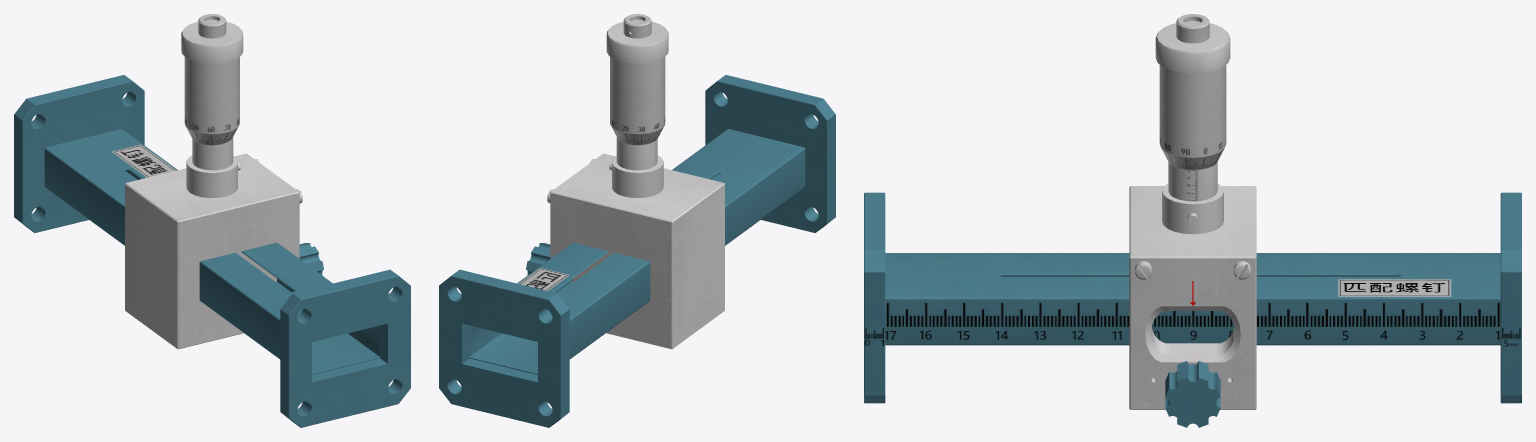
The model's file is pi_pei_luo_ding_2022.03.03.FBX.
3 views of the same model, side by side, from view 1: azimuth 30°, elevation 25°; view 2: azimuth 150°, elevation 25°; view 3: azimuth 270°, elevation 25° (orthographic). The views are drawn at different scales.
Parts seen in each view (by area): view 1: c1, 对象003, 对象002, 对象001, 对象006, 对象005, 对象004; view 2: c1, 对象003, 对象001, 对象002, 对象006, 对象005, 对象004; view 3: 对象003, c1, 对象006, 对象001, 对象002, 对象004, 对象005.
Part boxes in pixels (left/top/right/bottom): c1: left=125, top=153, right=302, bottom=349; 对象003: left=44, top=129, right=380, bottom=374; 对象002: left=280, top=269, right=410, bottom=427; 对象001: left=14, top=75, right=144, bottom=232; 对象006: left=181, top=14, right=243, bottom=145; 对象005: left=192, top=137, right=233, bottom=170; 对象004: left=299, top=243, right=323, bottom=275; c1: left=547, top=153, right=724, bottom=349; 对象003: left=469, top=129, right=805, bottom=374; 对象001: left=439, top=269, right=569, bottom=427; 对象002: left=705, top=75, right=835, bottom=232; 对象006: left=606, top=14, right=668, bottom=145; 对象005: left=616, top=137, right=657, bottom=170; 对象004: left=526, top=243, right=550, bottom=275; 对象003: left=885, top=253, right=1500, bottom=345; c1: left=1129, top=183, right=1256, bottom=409; 对象006: left=1155, top=14, right=1230, bottom=169; 对象001: left=1500, top=192, right=1521, bottom=403; 对象002: left=864, top=192, right=885, bottom=403; 对象004: left=1165, top=361, right=1220, bottom=427; 对象005: left=1168, top=162, right=1217, bottom=201.
Size of the model in its own units: 52.69 by 92.32 by 155.
